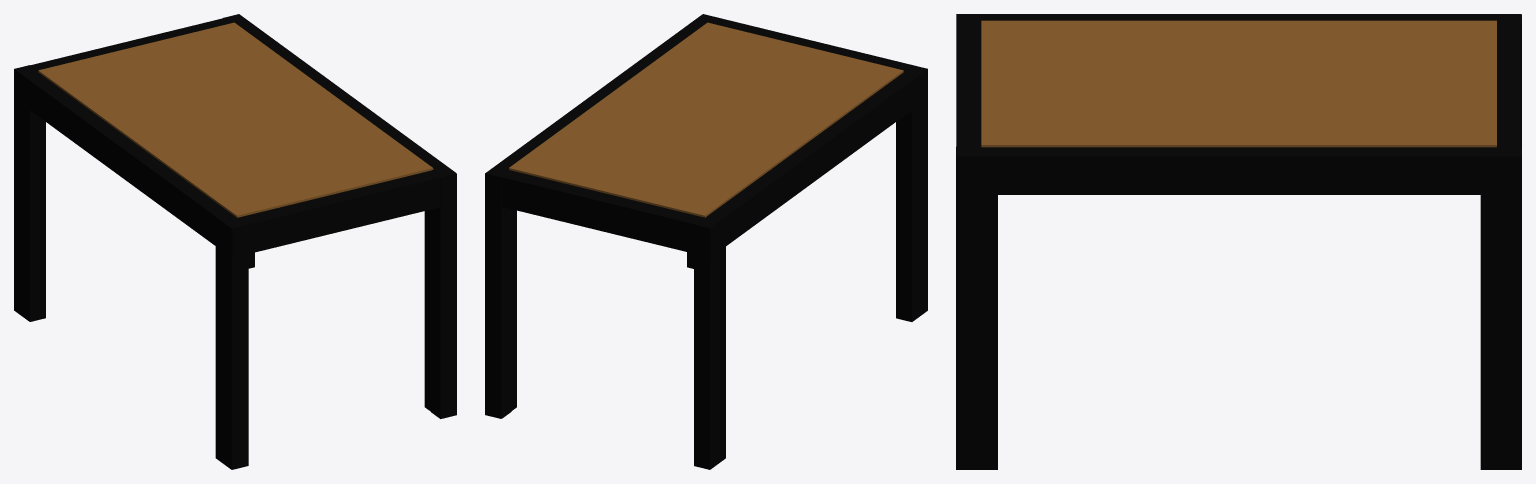
The model's file is kitchen table.glb.
The picture shows the model from 3 angles, left to right: view 1: azimuth 30°, elevation 25°; view 2: azimuth 150°, elevation 25°; view 3: azimuth 270°, elevation 25°; orthographic projection. The views are drawn at different scales.
Parts seen in each view (by area): view 1: kitchen table 1; view 2: kitchen table 1; view 3: kitchen table 1.
Part boxes in pixels (<box>): kitchen table 1: <box>14,14,456,469</box>; kitchen table 1: <box>485,14,927,469</box>; kitchen table 1: <box>956,14,1521,469</box>.
Bounding box in the file's own units: 0.5077 × 0.5247 × 0.8512.
